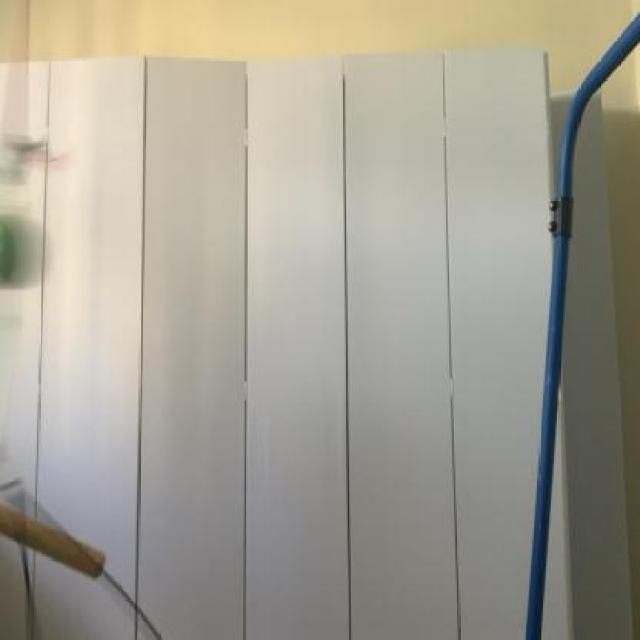baseball: (0, 202, 45, 302)
